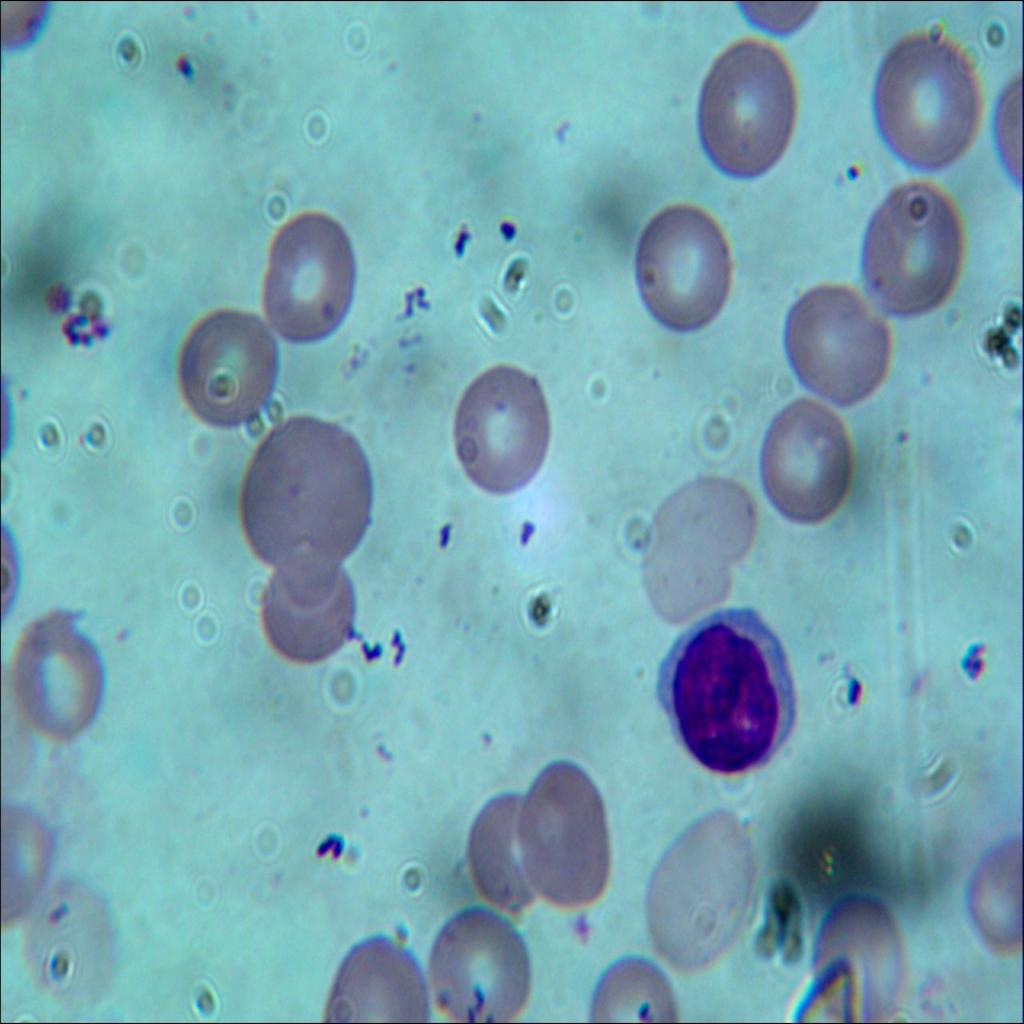Eritrosit: (638, 464, 766, 631), (238, 418, 372, 559), (649, 805, 758, 972), (858, 172, 971, 319), (696, 31, 798, 181), (783, 278, 891, 415), (632, 197, 738, 335), (518, 758, 613, 908), (454, 357, 552, 497), (875, 36, 979, 166), (171, 304, 279, 429), (261, 214, 359, 351), (13, 611, 104, 749), (756, 392, 850, 525), (429, 904, 533, 1023), (254, 541, 358, 659), (23, 879, 118, 1002), (820, 897, 906, 1021), (466, 790, 550, 916)
Limfoblast: (650, 602, 796, 784)
Platelet: (960, 639, 990, 682), (434, 522, 466, 561), (550, 112, 576, 150), (890, 411, 914, 452), (315, 832, 343, 867), (514, 511, 538, 550), (572, 914, 598, 948), (472, 722, 498, 754), (448, 222, 471, 258), (843, 674, 864, 711), (494, 214, 518, 246), (174, 52, 198, 82), (110, 624, 133, 655), (828, 166, 850, 198), (464, 98, 484, 132), (846, 159, 861, 189)
